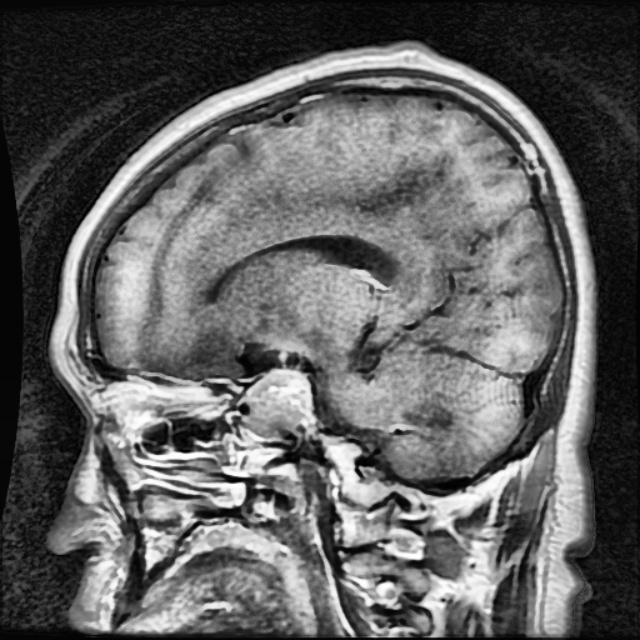Pituitary: (243, 368, 312, 437)
